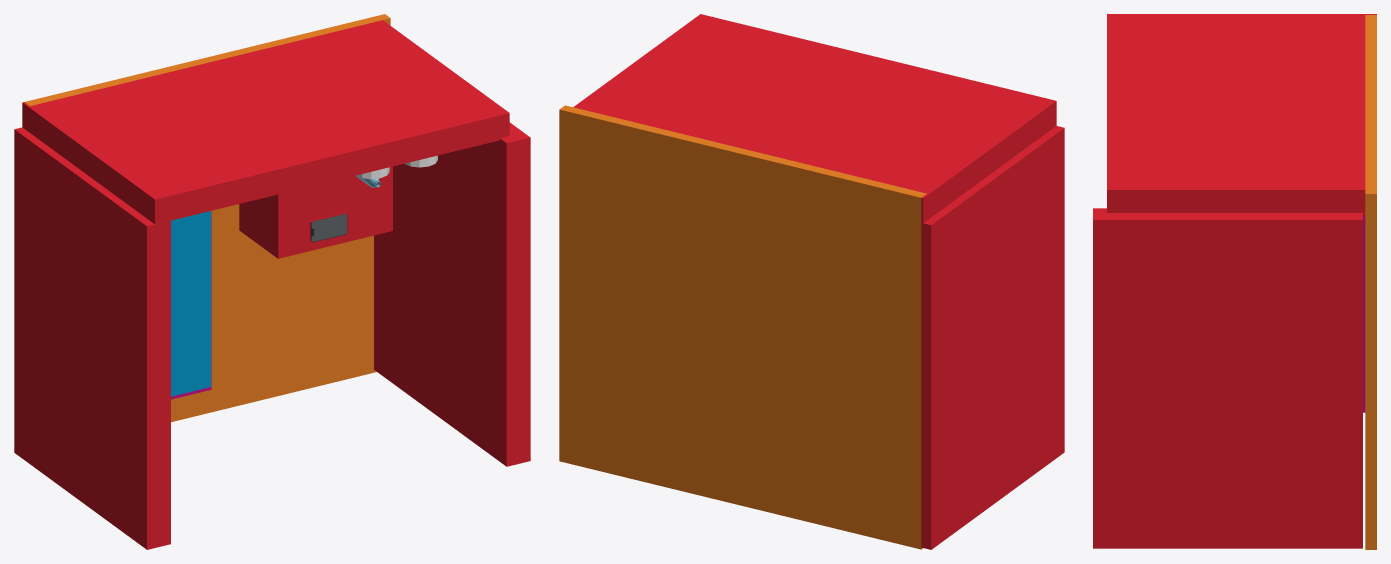
File: tinker.obj
The picture shows the model from 3 angles, left to right: view 1: azimuth 30°, elevation 25°; view 2: azimuth 150°, elevation 25°; view 3: azimuth 270°, elevation 25°; orthographic projection.
Visible parts, largest first — view 1: group_0_15277357, group_0_16089887, group_0_40919, group_0_6383466; view 2: group_0_16089887, group_0_15277357; view 3: group_0_15277357, group_0_16089887, group_0_14093196.
Boxes of the visible parts, box(x1,y1,x2,y2) form: group_0_15277357: box(14, 20, 530, 549); group_0_16089887: box(25, 14, 390, 422); group_0_40919: box(171, 211, 211, 396); group_0_6383466: box(311, 214, 346, 241); group_0_16089887: box(559, 105, 926, 549); group_0_15277357: box(573, 14, 1064, 549); group_0_15277357: box(1093, 14, 1376, 548); group_0_16089887: box(1365, 15, 1376, 549); group_0_14093196: box(1363, 215, 1365, 412).
Bounding box in the file's own units: 190 × 169 × 122.
